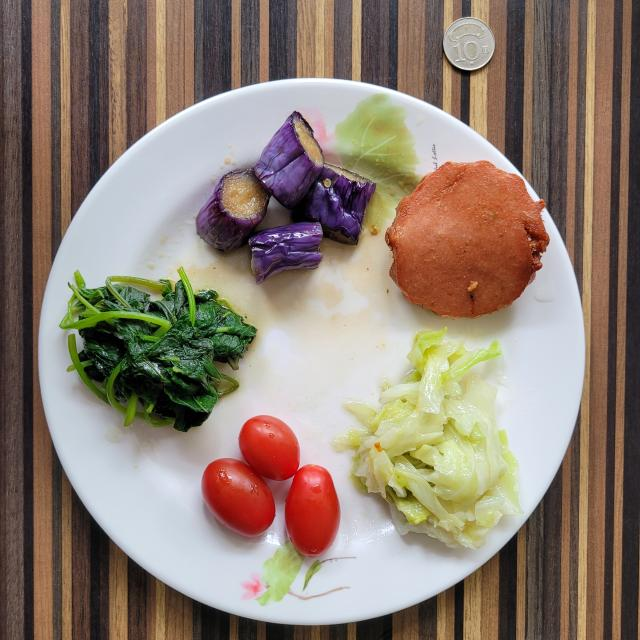Spam: (385, 161, 549, 318)
cabbage: (339, 329, 520, 549)
coin: (442, 18, 495, 71)
sweet potato leaves: (60, 270, 256, 431)
